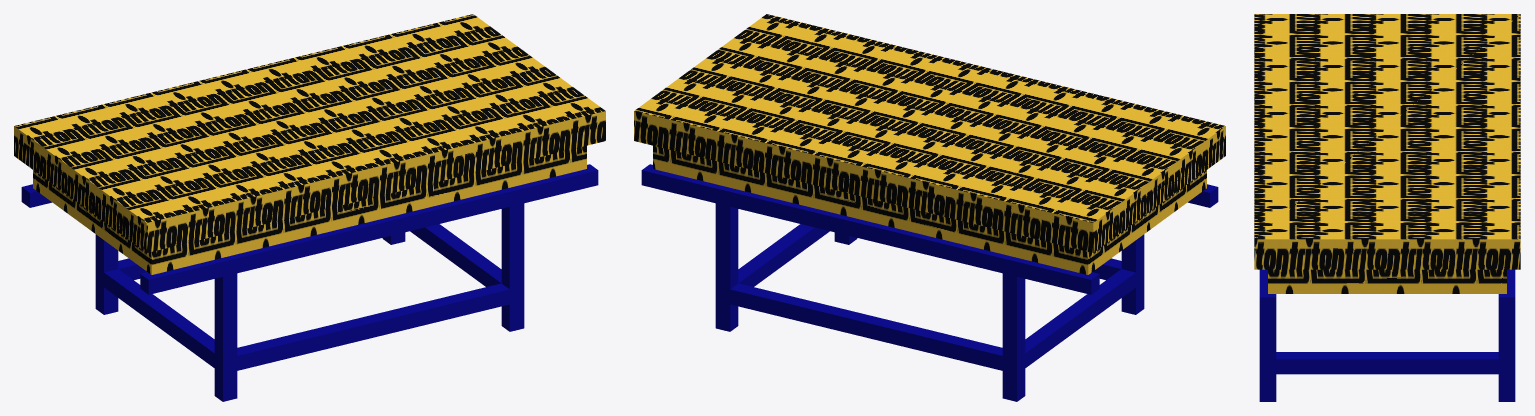
File: granite_assembly_bench.dae
3 renders of one model, left to right at view 1: azimuth 30°, elevation 25°; view 2: azimuth 150°, elevation 25°; view 3: azimuth 270°, elevation 25°, orthographic.
Visible parts, largest first — view 1: SketchUp (×3); view 2: SketchUp (×3); view 3: SketchUp (×3).
Part boxes in pixels (box(x1,y1,x2,y2)): SketchUp (×3): box(14, 14, 605, 401); SketchUp (×3): box(634, 14, 1225, 401); SketchUp (×3): box(1254, 14, 1520, 401).
Size of the model in its own units: 96 by 48 by 40.
